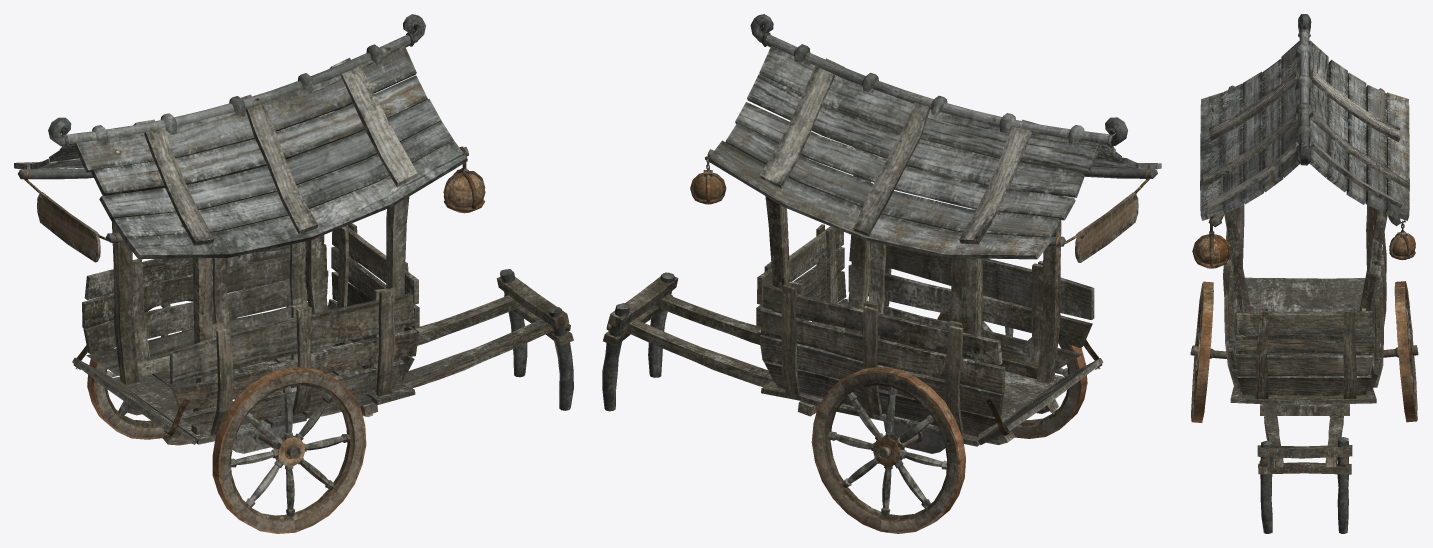
The model's file is cart.fbx.
The picture shows the model from 3 angles, left to right: view 1: azimuth 30°, elevation 25°; view 2: azimuth 150°, elevation 25°; view 3: azimuth 270°, elevation 25°; orthographic projection. The views are drawn at different scales.
Parts seen in each view (by area): view 1: cart; view 2: cart; view 3: cart.
Boxes of the visible parts, x1,y1,x2,y2 form: cart: (14, 14, 573, 533); cart: (602, 14, 1161, 533); cart: (1190, 14, 1418, 533).
Size of the model in its own units: 3.78 by 3.05 by 1.81.
1 material, 1 textured.
